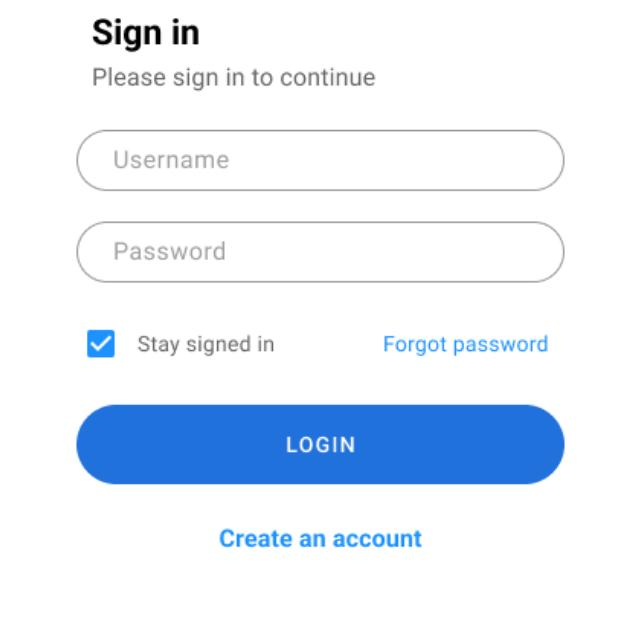QLabel: (88, 66, 376, 94), (219, 528, 426, 548), (87, 16, 201, 52), (381, 334, 549, 358), (133, 334, 274, 356), (286, 434, 356, 454)
VBtn: (75, 403, 565, 487)
VCheckbox: (84, 327, 116, 359)
VTextField: (74, 128, 564, 194), (75, 221, 571, 285)
